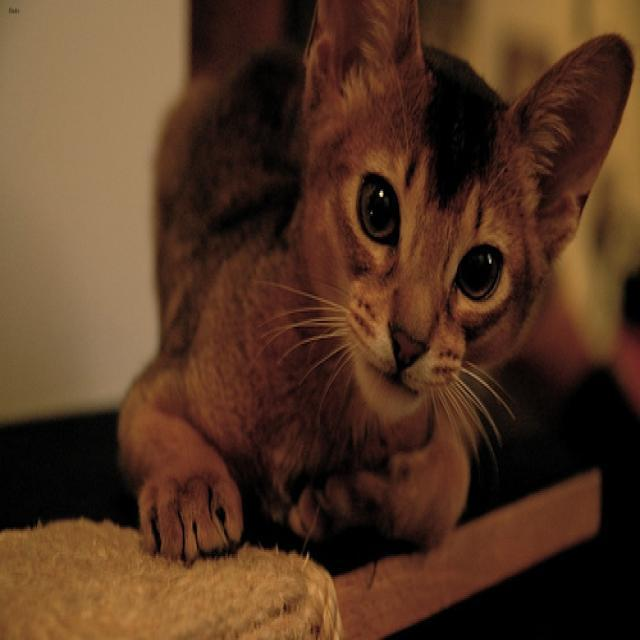Abyssinian: (298, 4, 634, 432)
